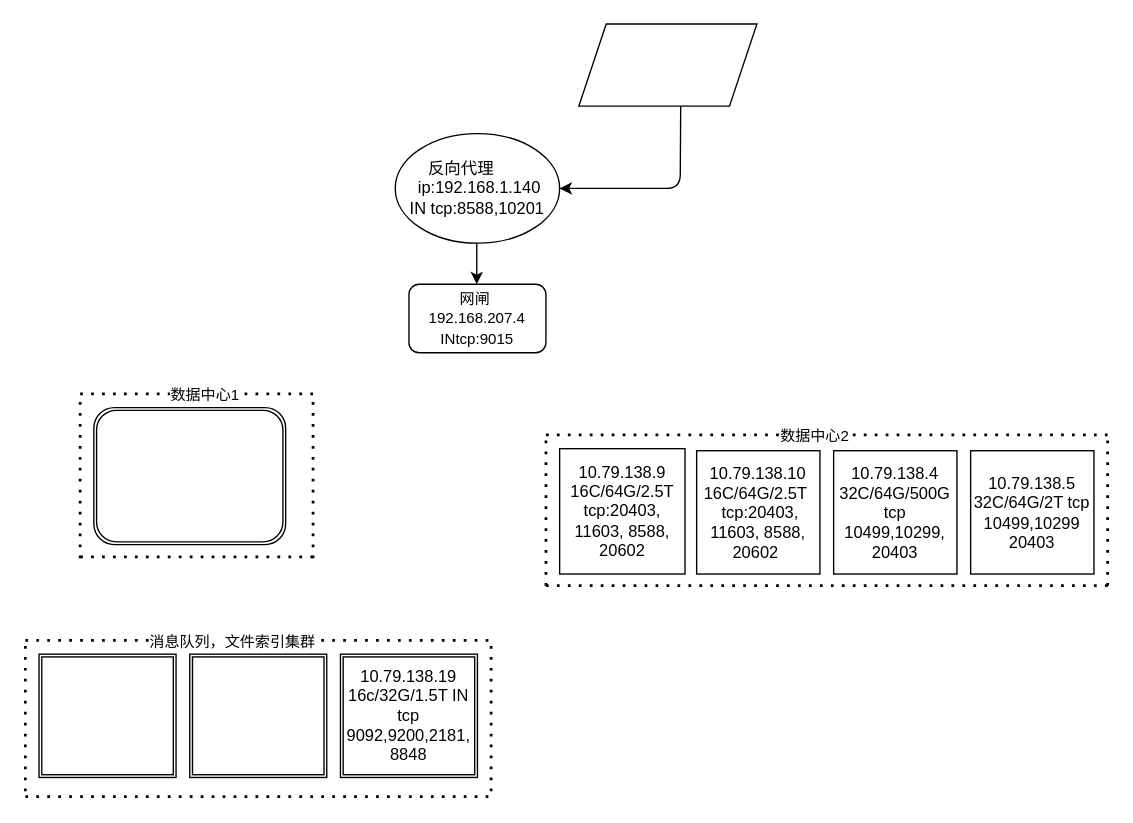
This 1133x823 diagram has some shape labels left out. The shapes that lost their labels are listed below. From the top down, each one's centre as x and y in pixels, then its label:
At pixel 667 64: "client端应用采集数".
At pixel 189 475: "报表展示，数据收集 10.79.138.16 8C/32G/500G IN tcp:8080 8588 10201 18848".
At pixel 107 715: "10.79.138.17 16c/32G/1.5T IN tcp 9092,9200,2181, 8848".
At pixel 257 715: "10.79.138.18 16c/32G/1.5T IN tcp 9092,9200,2181, 8848".
